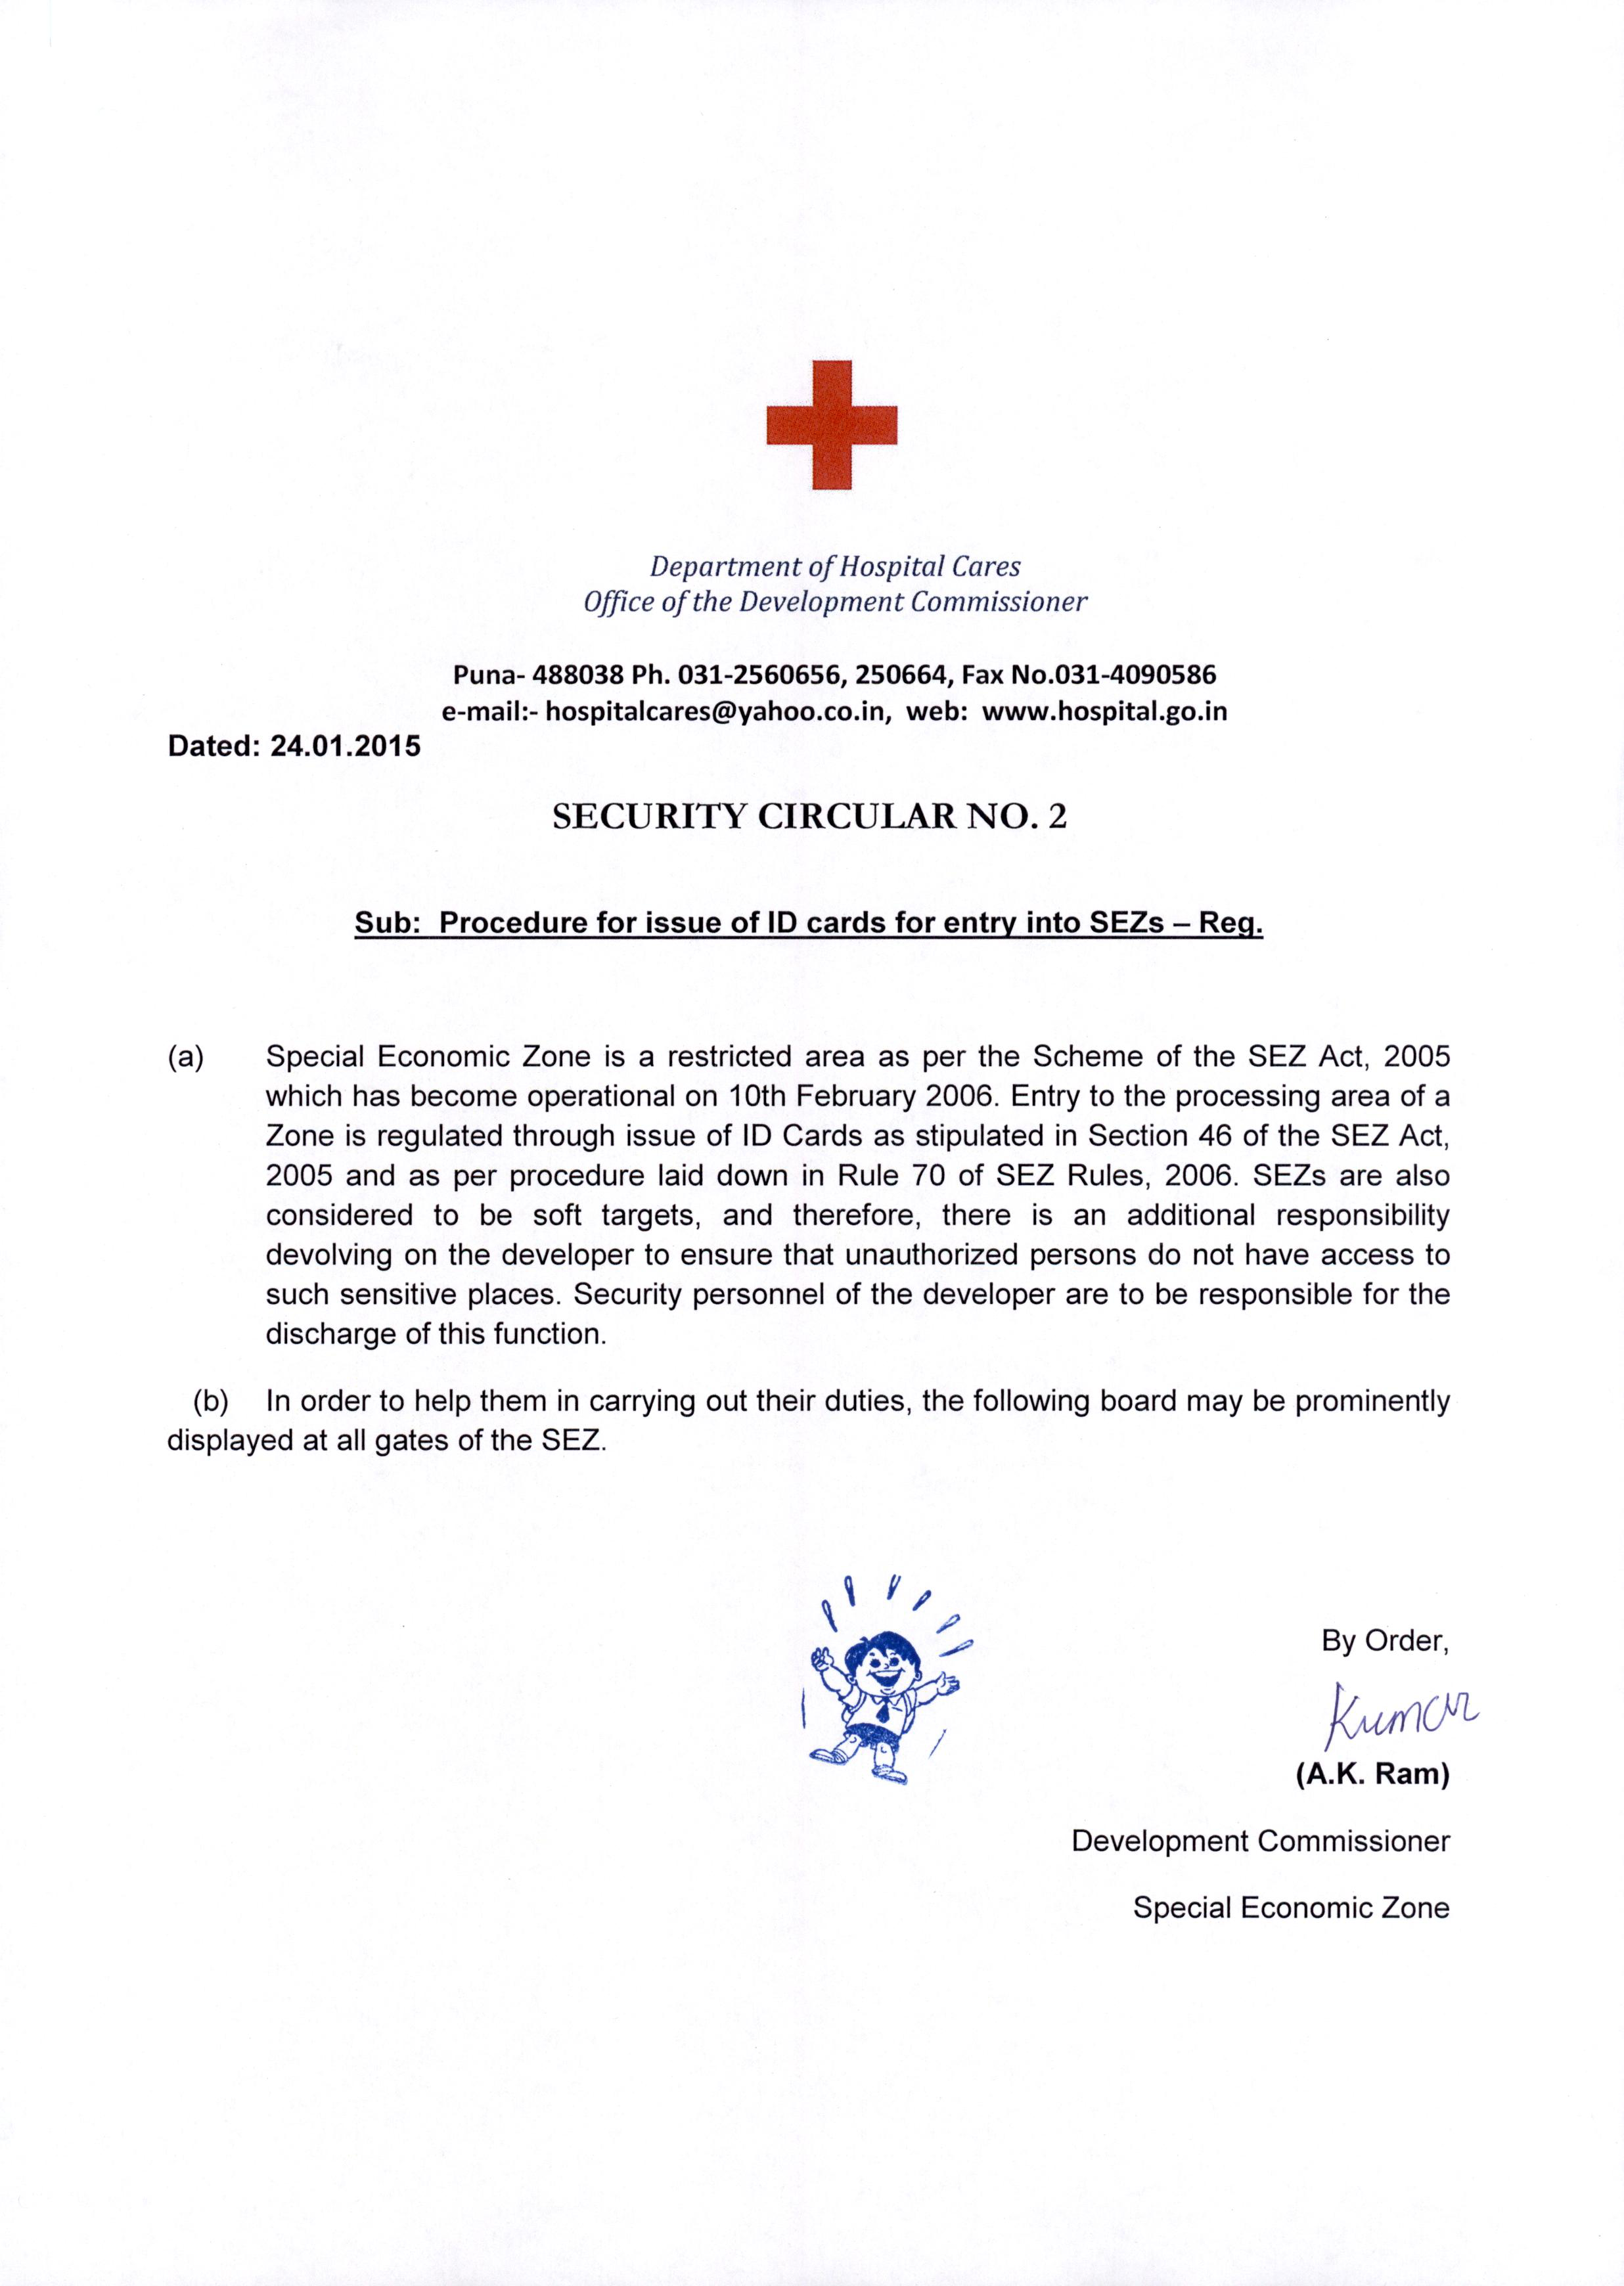Signature: (1322, 1673, 1485, 1755)
